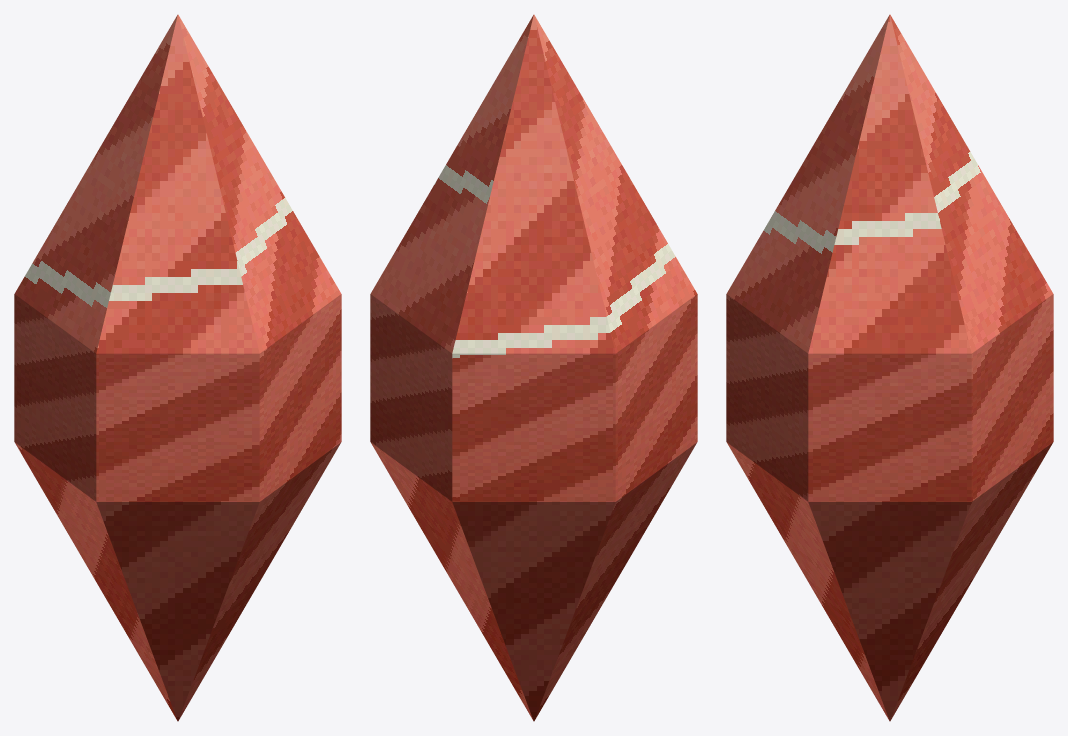
File: reliquia_sagrada_13.glb
3 renders of one model, left to right at view 1: azimuth 30°, elevation 25°; view 2: azimuth 150°, elevation 25°; view 3: azimuth 270°, elevation 25°, orthographic.
Parts seen in each view (by area): view 1: reliquia_sagrada_13; view 2: reliquia_sagrada_13; view 3: reliquia_sagrada_13.
Boxes of the visible parts, <box> form: reliquia_sagrada_13: <box>14,14,341,721</box>; reliquia_sagrada_13: <box>370,14,697,721</box>; reliquia_sagrada_13: <box>726,14,1053,721</box>.
Bounding box in the file's own units: 0.3118 × 0.86 × 0.36.
1 material, 1 textured.
